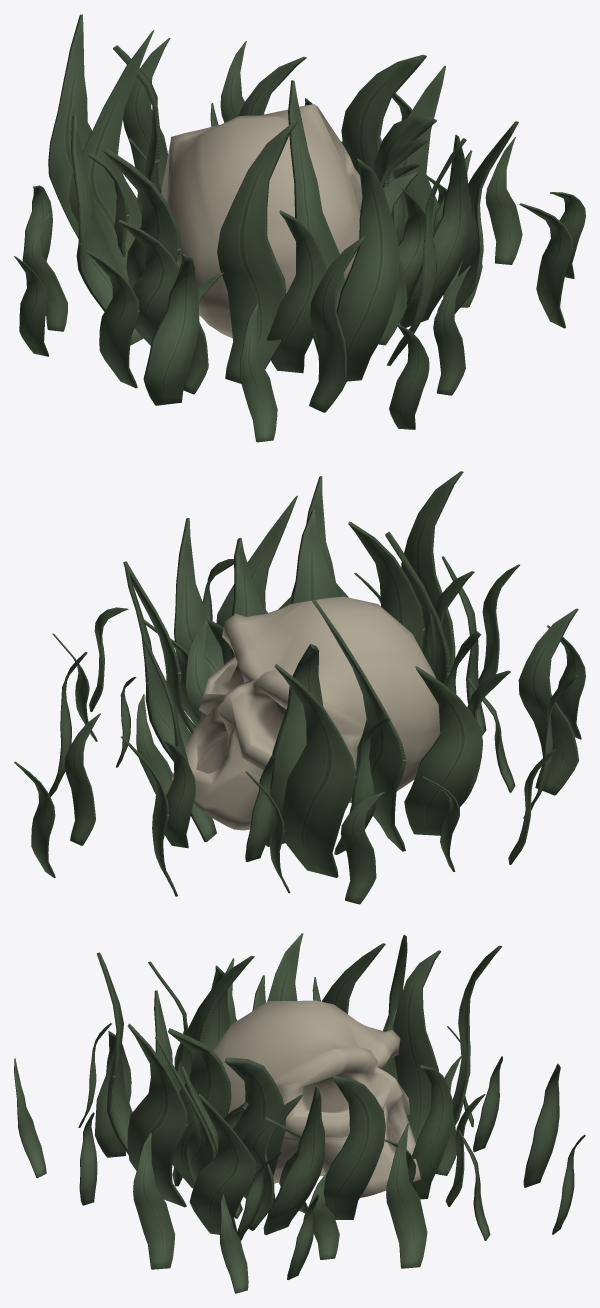
Rendered from Grass_Skull.fbx.
3 views of the same model, one above another, from view 1: azimuth 30°, elevation 25°; view 2: azimuth 150°, elevation 25°; view 3: azimuth 270°, elevation 25° (orthographic). The views are drawn at different scales.
Parts seen in each view (by area): view 1: Grasspatch, Skull_LP; view 2: Grasspatch, Skull_LP; view 3: Grasspatch, Skull_LP.
Part boxes in pixels (x1,y1,x2,y2): Grasspatch: [14, 14, 585, 442]; Skull_LP: [161, 104, 362, 338]; Grasspatch: [14, 471, 585, 904]; Skull_LP: [172, 596, 440, 830]; Grasspatch: [14, 933, 585, 1293]; Skull_LP: [212, 1000, 420, 1197].
Size of the model in its own units: 32.88 by 15.93 by 36.28.
